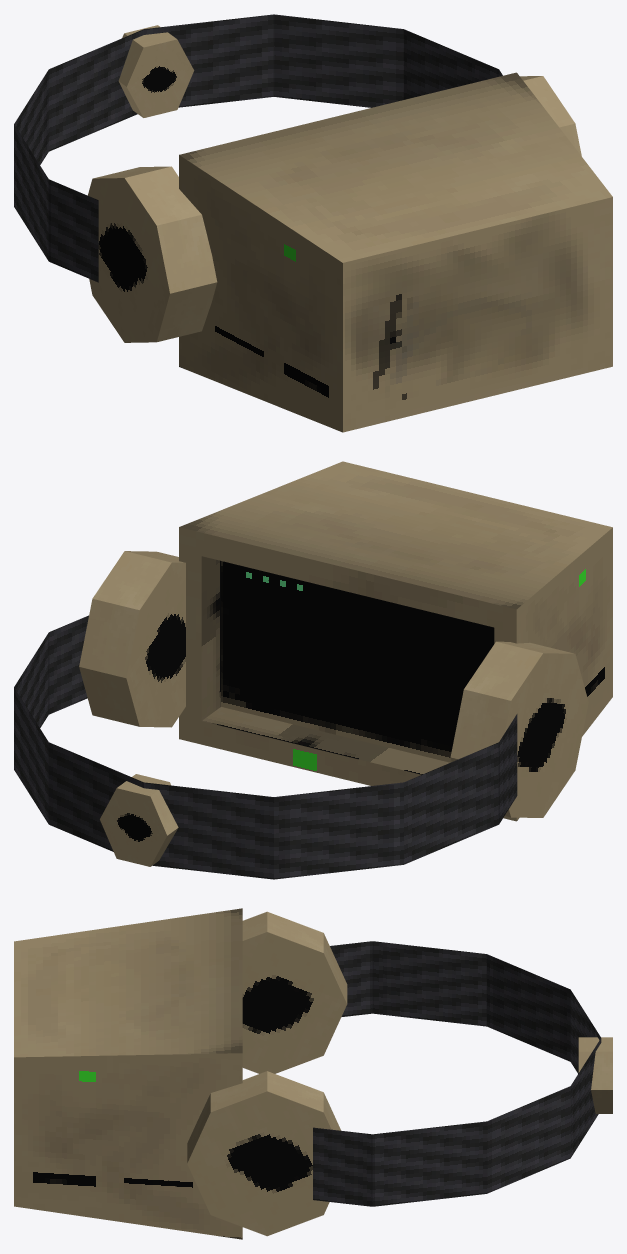
File: 3d_virtual_reality_2.glb
The picture shows the model from 3 angles, top to bottom: view 1: azimuth 30°, elevation 25°; view 2: azimuth 150°, elevation 25°; view 3: azimuth 270°, elevation 25°; orthographic projection. The views are drawn at different scales.
Visible parts, largest first — view 1: Cylinder; view 2: Cylinder; view 3: Cylinder.
Boxes of the visible parts, x1,y1,x2,y2 form: Cylinder: (14,14,612,432); Cylinder: (14,461,612,879); Cylinder: (14,908,612,1239).
Size of the model in its own units: 0.2 by 0.09 by 0.2621.
1 material, 1 textured.
